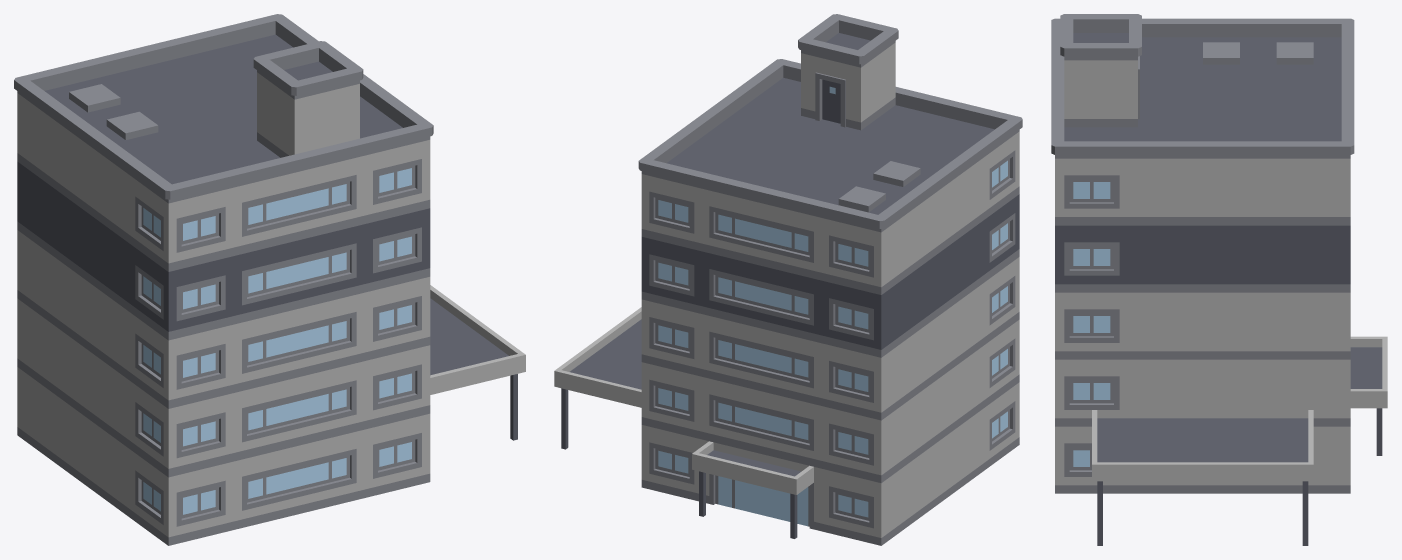
File: large_buildingG.dae
The picture shows the model from 3 angles, left to right: view 1: azimuth 30°, elevation 25°; view 2: azimuth 150°, elevation 25°; view 3: azimuth 270°, elevation 25°; orthographic projection. The views are drawn at different scales.
Visible parts, largest first — view 1: large_buildingG; view 2: large_buildingG; view 3: large_buildingG.
Part boxes in pixels (x1,y1,x2,y2): large_buildingG: [14, 14, 525, 545]; large_buildingG: [554, 14, 1022, 545]; large_buildingG: [1051, 14, 1387, 545].
Bounding box in the file's own units: 2.32 × 2.48 × 1.82.
